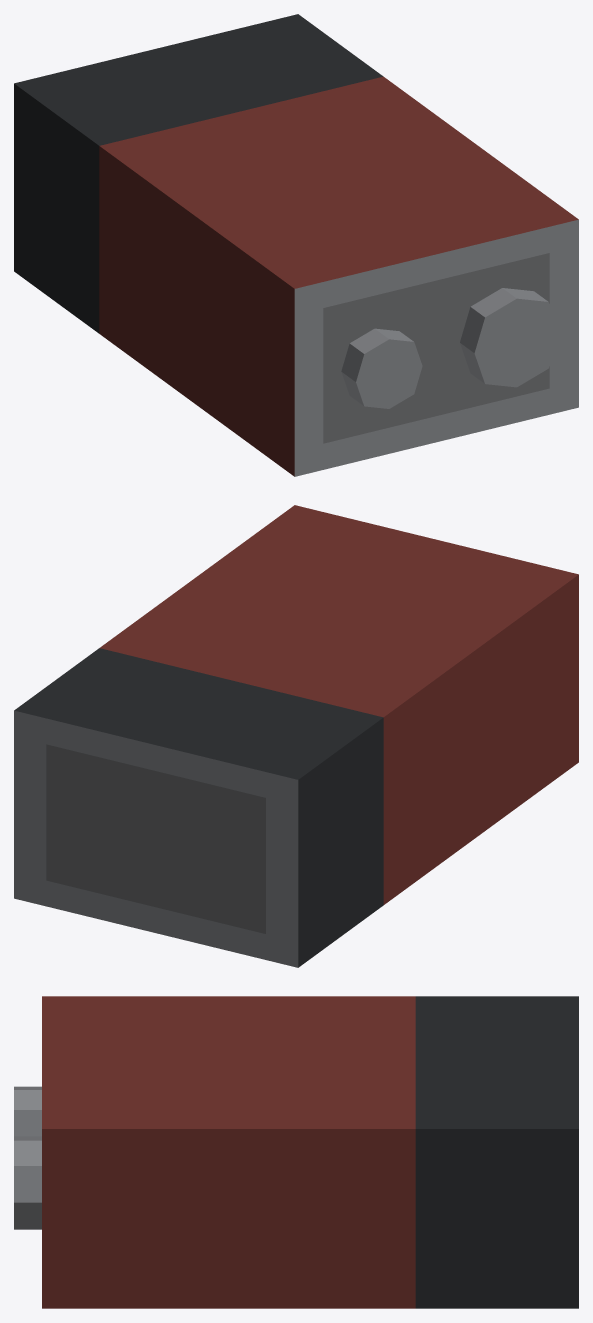
Rendered from SM_Item_Battery_01.fbx.
3 views of the same model, one above another, from view 1: azimuth 30°, elevation 25°; view 2: azimuth 150°, elevation 25°; view 3: azimuth 270°, elevation 25° (orthographic). The views are drawn at different scales.
Visible parts, largest first — view 1: SM_Item_Battery_01; view 2: SM_Item_Battery_01; view 3: SM_Item_Battery_01.
Part boxes in pixels (left/top/right/bottom): SM_Item_Battery_01: left=14, top=14, right=578, bottom=476; SM_Item_Battery_01: left=14, top=505, right=578, bottom=967; SM_Item_Battery_01: left=14, top=996, right=578, bottom=1308.
Size of the model in its own units: 6.46 by 4.08 by 11.62.
